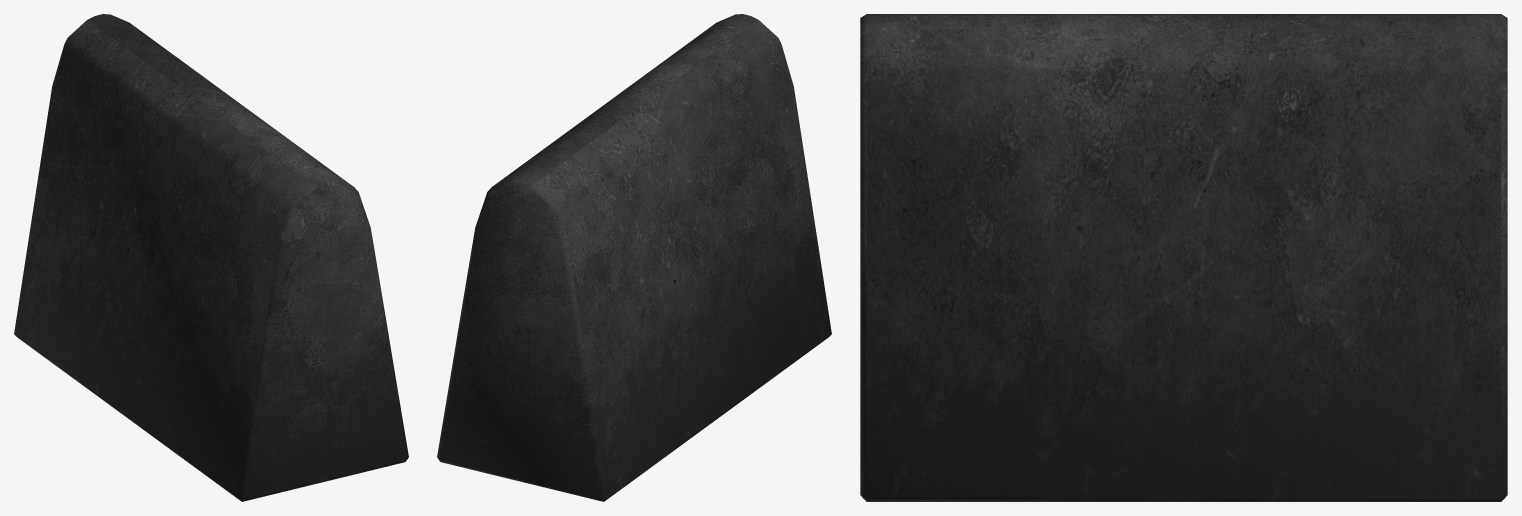
The model's file is concrete_block.gltf.
3 views of the same model, side by side, from view 1: azimuth 30°, elevation 25°; view 2: azimuth 150°, elevation 25°; view 3: azimuth 270°, elevation 25° (orthographic). The views are drawn at different scales.
Visible parts, largest first — view 1: concrete_block; view 2: concrete_block; view 3: concrete_block.
Boxes of the visible parts, x1,y1,x2,y2 form: concrete_block: (14,14,408,501); concrete_block: (437,14,831,501); concrete_block: (860,14,1507,501).
Size of the model in its own units: 0.4286 by 0.728 by 1.
1 material, 1 textured.
